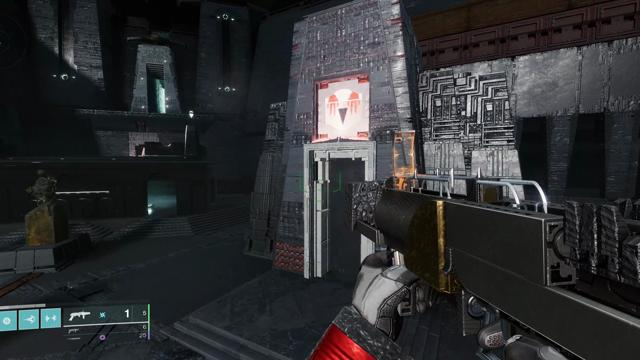enter: (137, 146, 145, 157)
give: (325, 89, 362, 130)
